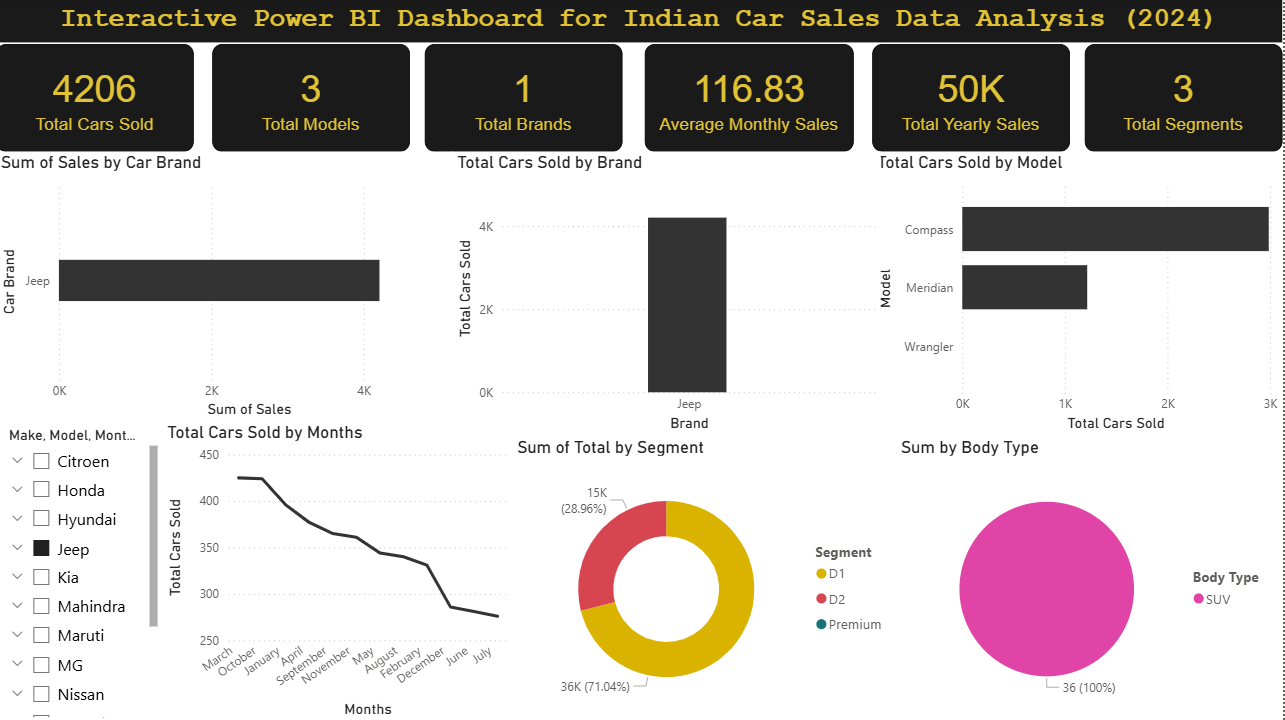

The page's visual inventory and layout, read from the dashboard file:
{"tool":"powerbi","page":{"name":"Page 1","canvas":[1280,720],"ordinal":0},"visuals":[{"type":"card","fields":{"Values":["Sheet1.Total Cars Sold"]},"box":[0,44.8,196.5,107],"z":0},{"type":"card","fields":{"Values":["Sheet1.Total Models"]},"box":[215.2,44.8,196.5,107],"z":1},{"type":"card","fields":{"Values":["Sheet1.Total Brands"]},"box":[426.7,44.8,196.5,107],"z":2},{"type":"card","fields":{"Values":["Car Sales.Average Monthly Sales"]},"box":[645.6,44.8,207.7,107],"z":3},{"type":"card","fields":{"Values":["Car Sales.Total Yearly Sales"]},"box":[872,44.8,196.5,107],"z":4},{"type":"card","fields":{"Values":["Car Sales.Total Segments"]},"box":[1083.4,44.8,196.5,107],"z":5},{"type":"clusteredBarChart","fields":{"Category":["Car Sales.Make"],"Y":["Sum(Car Sales.Sales)"]},"box":[0,151.8,454,269.9],"z":6},{"type":"pieChart","fields":{"Category":["Car Sales.Body Type"],"Y":["CountNonNull(Car Sales.Total)"]},"box":[895.7,435.4,384.4,284.9],"z":7},{"type":"donutChart","fields":{"Category":["Car Sales.Segment"],"Y":["Sum(Car Sales.Total)"]},"box":[513.8,435.4,381.9,284.9],"z":8},{"type":"barChart","fields":{"Category":["Car Sales.Model"],"Y":["Car Sales.Total Cars Sold"]},"box":[872,151.8,408,283.6],"z":10},{"type":"slicer","fields":{"Values":["Car Sales.Make","Car Sales.Model","Car Sales.Months","Car Sales.Body Type","Car Sales.Segment"]},"box":[0,420.5,165.4,299.8],"z":11},{"type":"lineChart","fields":{"Y":["Car Sales.Total Cars Sold"],"Category":["Car Sales.Months"]},"box":[165.4,420.5,348.3,299.8],"z":12},{"type":"lineClusteredColumnComboChart","fields":{"Y":["Car Sales.Total Cars Sold"],"Category":["Car Sales.Make"]},"box":[454,151.8,426.7,283.6],"z":13},{"type":"textbox","box":[0,0,1280,43.5],"z":14}]}

Visuals, with their boxes in screenshot pixels (x1, y1, x2, y2), scaled from the page's 1280x720 canvas onto the 1285x720 screenshot:
card - Sheet1.Total Cars Sold: (x1=0, y1=45, x2=197, y2=152)
card - Sheet1.Total Models: (x1=216, y1=45, x2=413, y2=152)
card - Sheet1.Total Brands: (x1=428, y1=45, x2=626, y2=152)
card - Car Sales.Average Monthly Sales: (x1=648, y1=45, x2=857, y2=152)
card - Car Sales.Total Yearly Sales: (x1=875, y1=45, x2=1073, y2=152)
card - Car Sales.Total Segments: (x1=1088, y1=45, x2=1284, y2=152)
clusteredBarChart - Car Sales.Make x Sum(Car Sales.Sales): (x1=0, y1=152, x2=456, y2=422)
pieChart - Car Sales.Body Type x CountNonNull(Car Sales.Total): (x1=899, y1=435, x2=1284, y2=719)
donutChart - Car Sales.Segment x Sum(Car Sales.Total): (x1=516, y1=435, x2=899, y2=719)
barChart - Car Sales.Model x Car Sales.Total Cars Sold: (x1=875, y1=152, x2=1284, y2=435)
slicer - Car Sales.Make x Car Sales.Model: (x1=0, y1=420, x2=166, y2=719)
lineChart - Car Sales.Total Cars Sold x Car Sales.Months: (x1=166, y1=420, x2=516, y2=719)
lineClusteredColumnComboChart - Car Sales.Total Cars Sold x Car Sales.Make: (x1=456, y1=152, x2=884, y2=435)
textbox: (x1=0, y1=0, x2=1284, y2=44)
